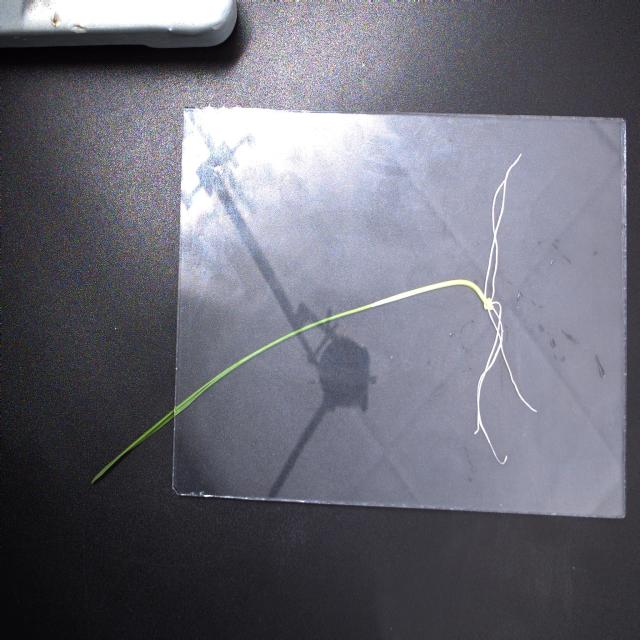leaf: (91, 361, 239, 491)
root: (469, 153, 536, 471)
stem: (239, 274, 495, 374)
